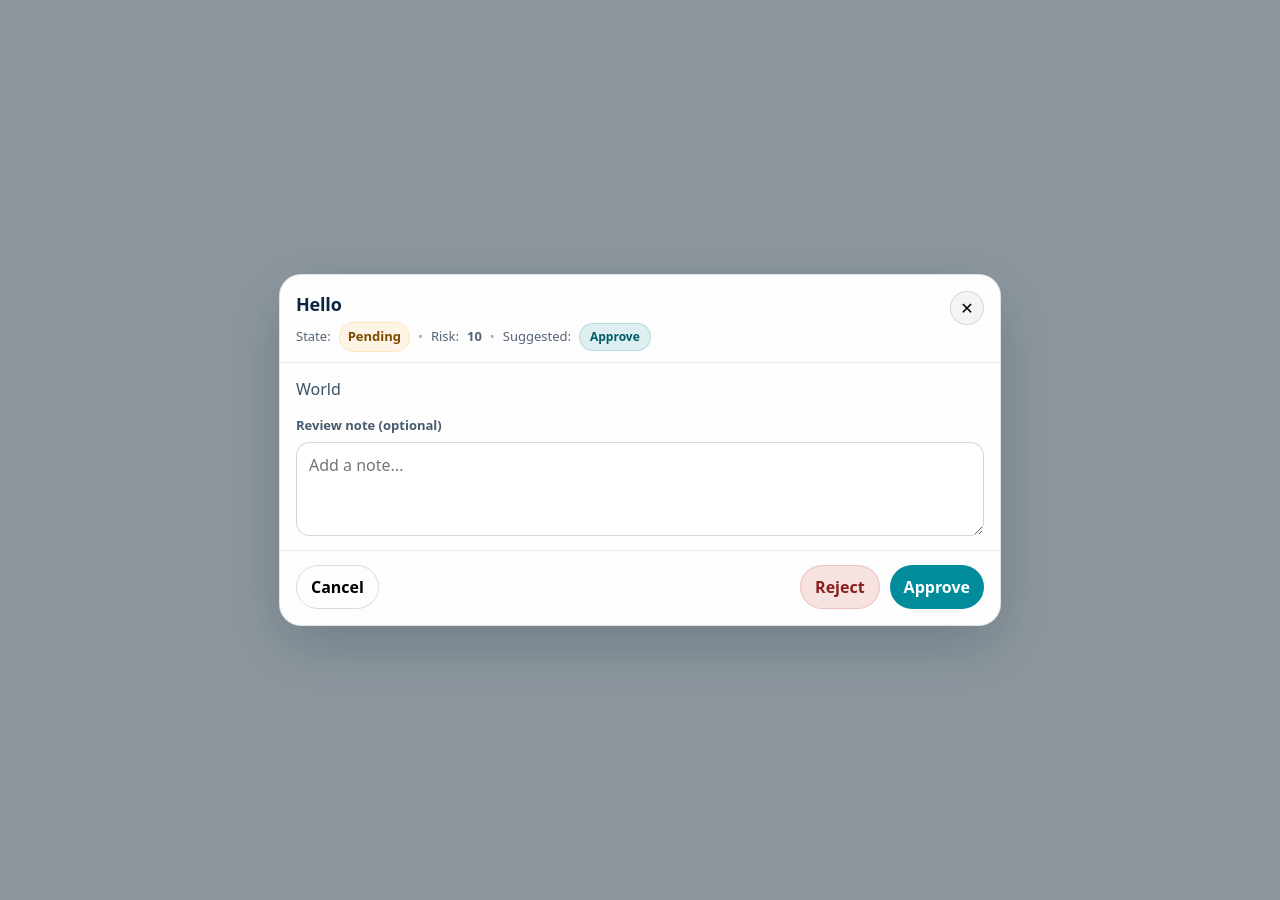
Test: ItemModal › shows error when api fails
This screenshot has width=1280, height=900.
Click the button "Reject". click: (840, 587)
box: [800,565,880,609]
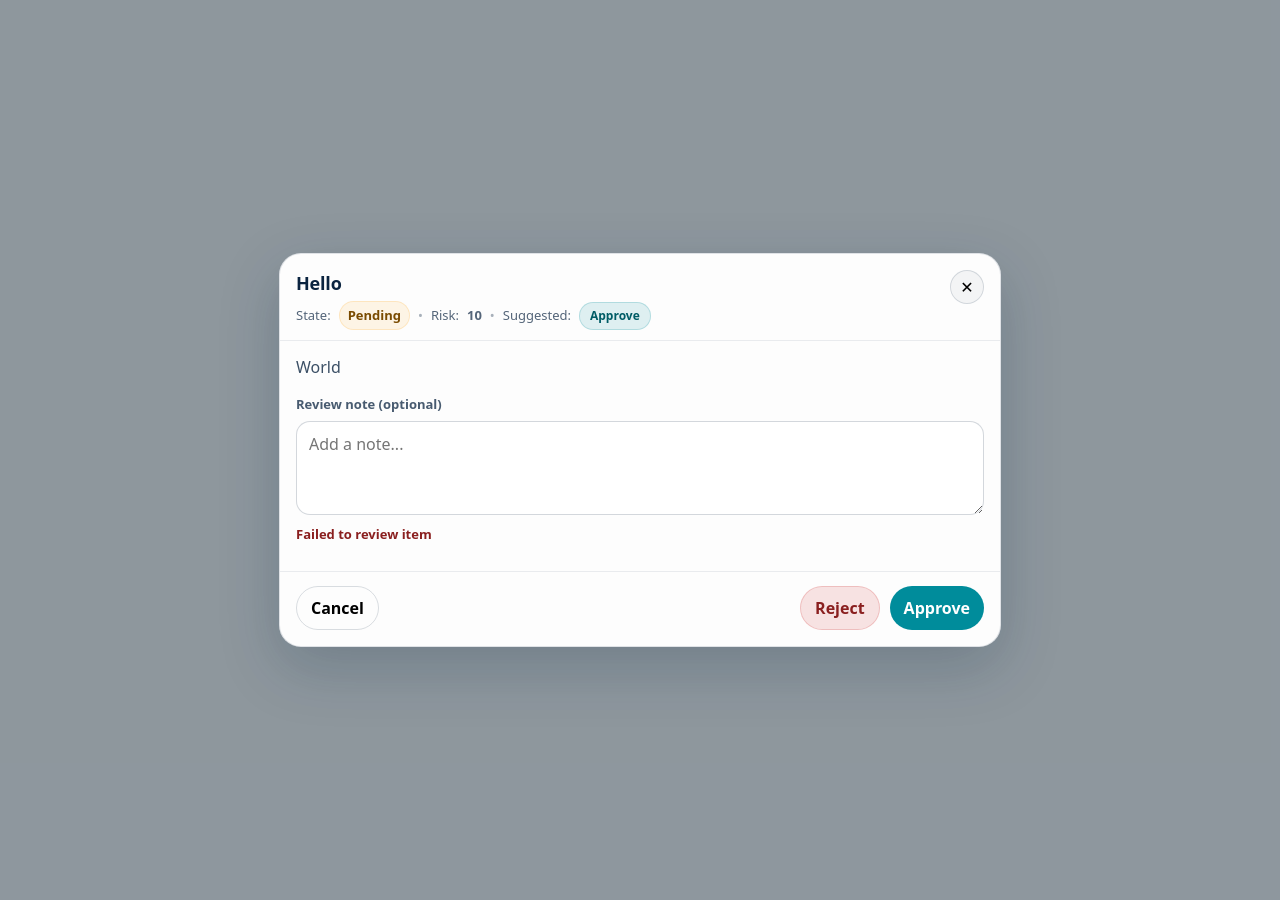
Expected: the text "Failed to review item" is shown, [296,524,432,542]
